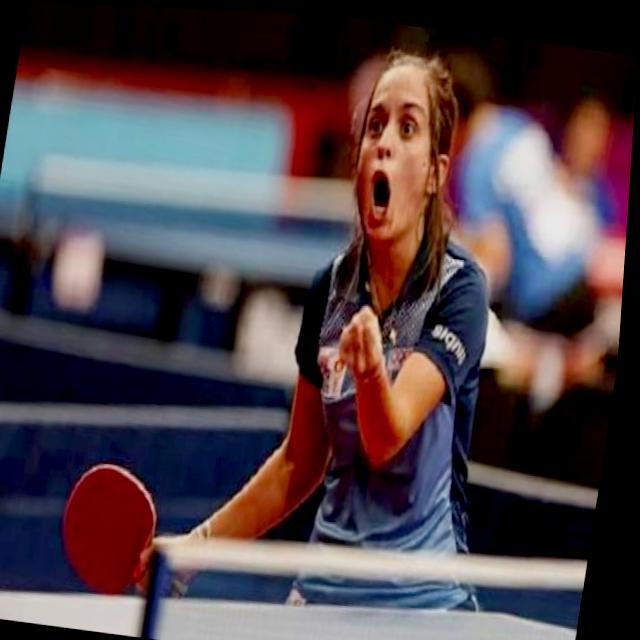TT Net: (139, 538, 586, 640)
TT Racket: (35, 448, 180, 607)
